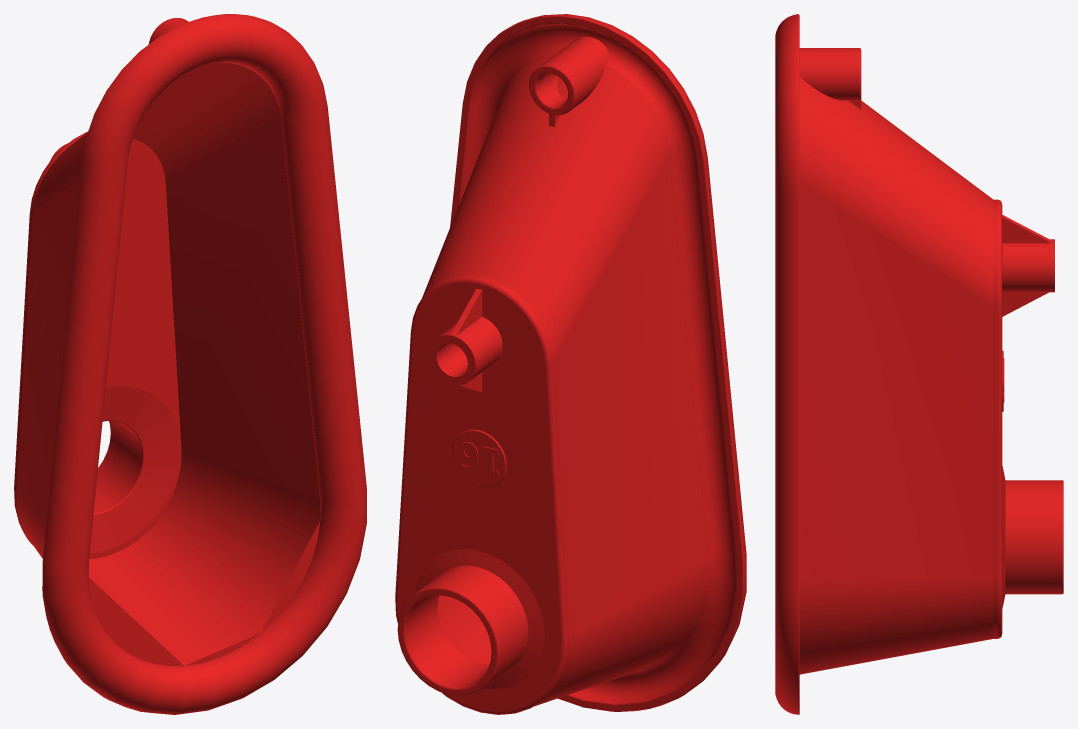
File: PART 16 BATH TUB.fbx
3 renders of one model, left to right at view 1: azimuth 30°, elevation 25°; view 2: azimuth 150°, elevation 25°; view 3: azimuth 270°, elevation 25°, orthographic. The views are drawn at different scales.
Visible parts, largest first — view 1: PART 16 BATH TUB; view 2: PART 16 BATH TUB; view 3: PART 16 BATH TUB.
Boxes of the visible parts, x1,y1,x2,y2 form: PART 16 BATH TUB: (14,14,366,714); PART 16 BATH TUB: (395,14,746,714); PART 16 BATH TUB: (775,14,1063,714).
Bounding box in the file's own units: 6.51 × 13.35 × 5.2.
